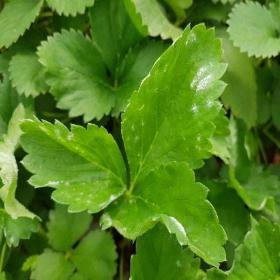Powdery Mildew Leaf: (120, 21, 231, 192), (99, 160, 229, 270), (18, 114, 128, 213), (0, 102, 43, 248)
